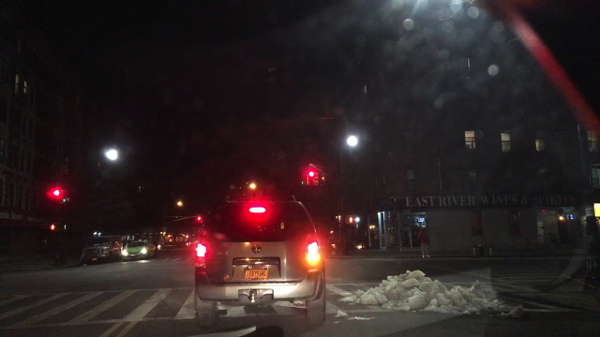car: (194, 192, 326, 327), (79, 237, 121, 265), (121, 240, 154, 261), (154, 239, 162, 254), (176, 241, 189, 249)
person: (415, 224, 431, 259)
traffic light: (308, 169, 315, 184), (301, 169, 306, 187), (62, 189, 67, 205), (345, 216, 354, 224), (54, 190, 60, 201), (50, 223, 56, 233), (196, 216, 202, 226), (315, 172, 319, 186), (62, 224, 67, 230)
